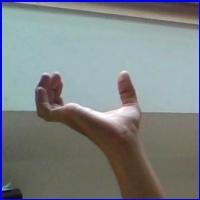B: (25, 65, 152, 156)
